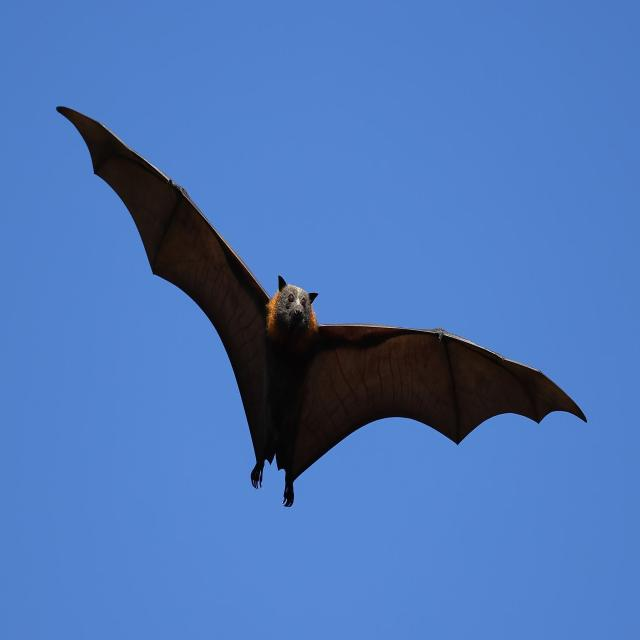Bat: (53, 101, 592, 520)
